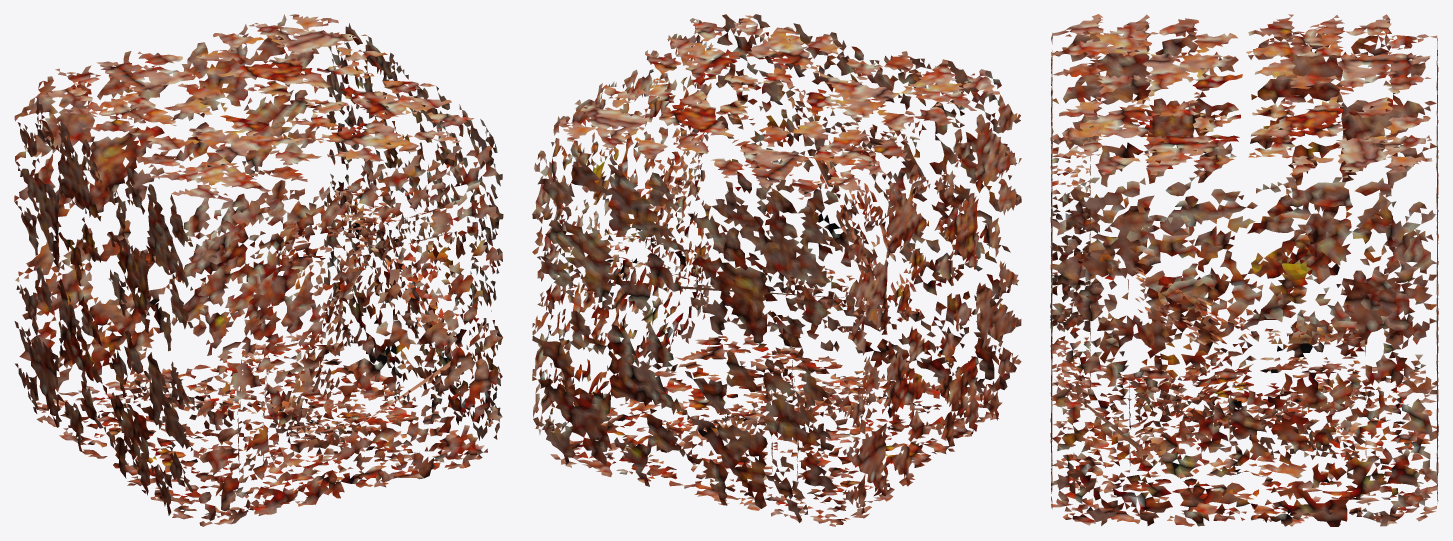
The picture shows the model from 3 angles, left to right: view 1: azimuth 30°, elevation 25°; view 2: azimuth 150°, elevation 25°; view 3: azimuth 270°, elevation 25°; orthographic projection. The views are drawn at different scales.
Bounding box in the file's own units: 1.13 × 1.13 × 1.13.
